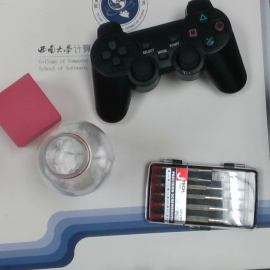bottle: (38, 120, 113, 196)
remote: (94, 1, 249, 120)
